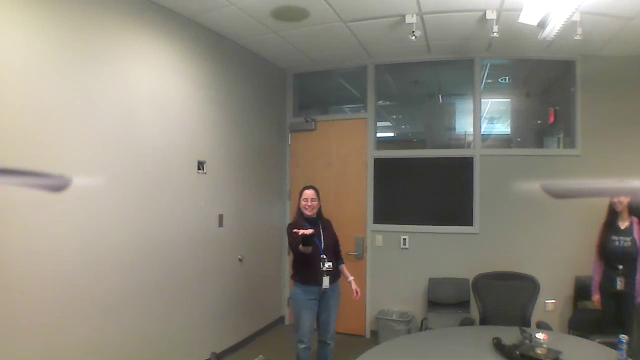land: (285, 225, 317, 240)
